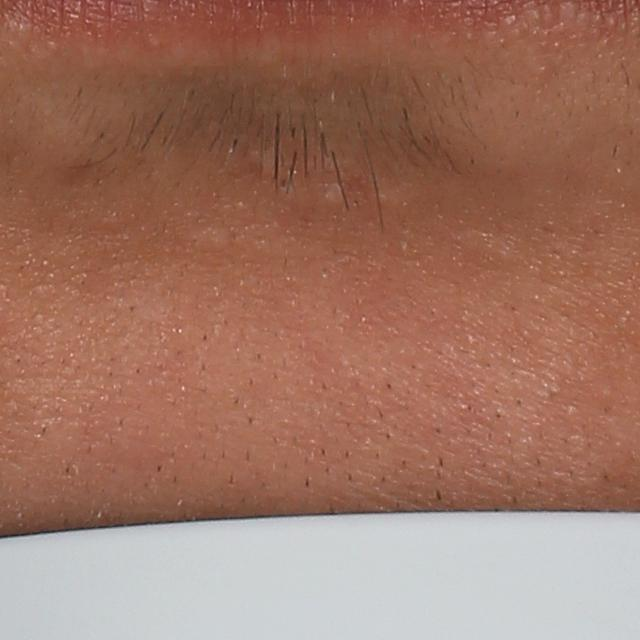hypertrophic_scar: (184, 226, 231, 252), (319, 180, 349, 210)
